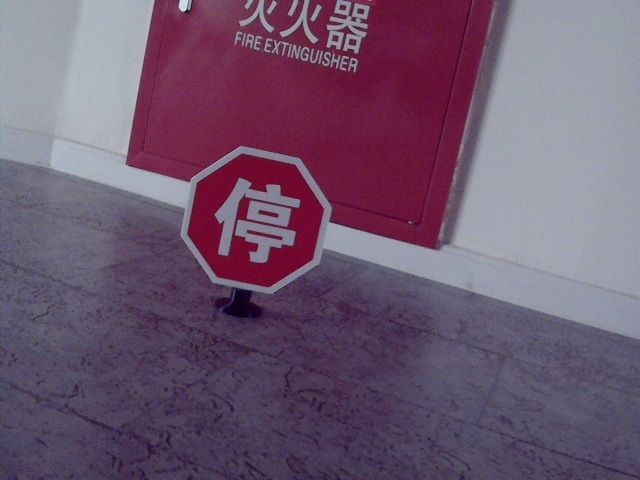stop: (210, 176, 300, 264)
